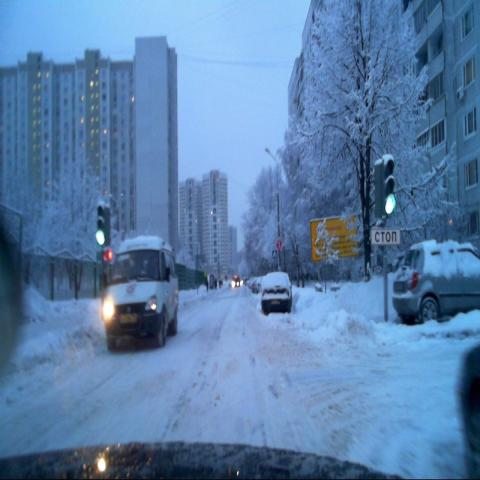6_16: (370, 227, 400, 246)
